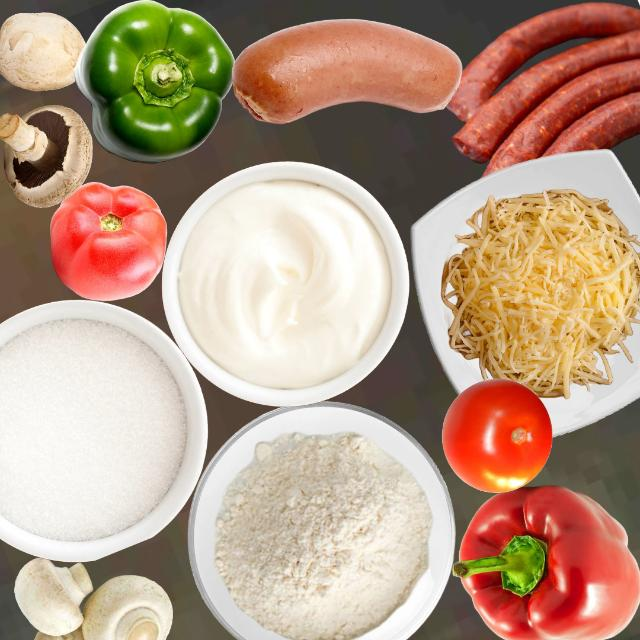Flour: (214, 430, 431, 638)
Sugar: (0, 317, 186, 541)
